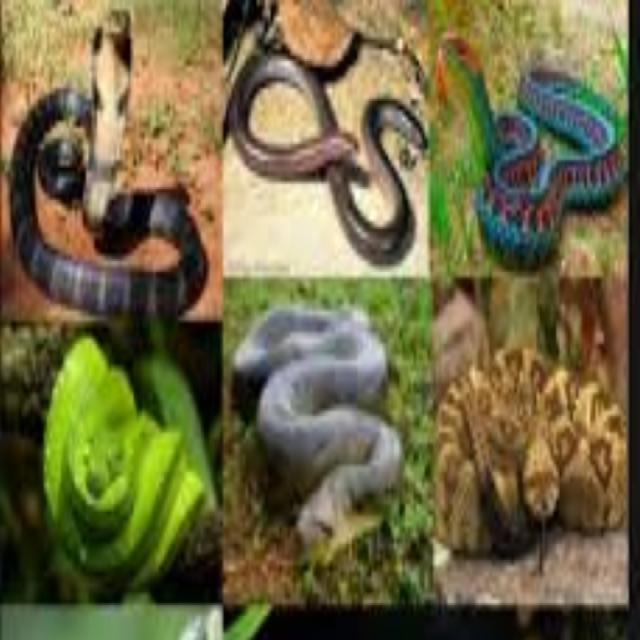Snake: (8, 5, 210, 301), (431, 14, 627, 268), (229, 292, 410, 566), (36, 329, 217, 593), (230, 41, 424, 263), (435, 343, 626, 560)
